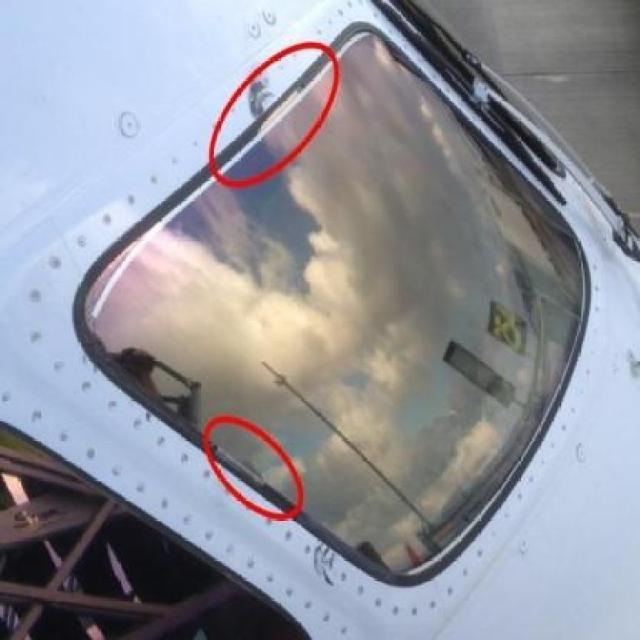crack: (312, 542, 337, 585)
